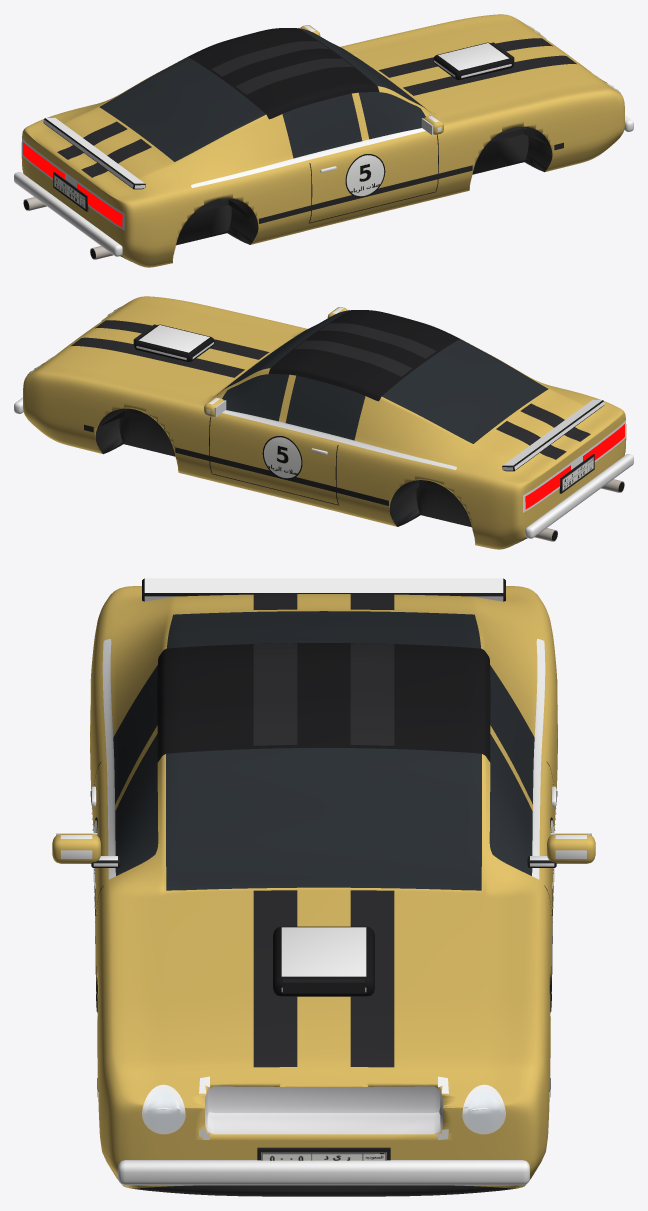
Rendered from SM_RiyadhMuscle_Body.fbx.
The picture shows the model from 3 angles, top to bottom: view 1: azimuth 30°, elevation 25°; view 2: azimuth 150°, elevation 25°; view 3: azimuth 270°, elevation 25°; orthographic projection. The views are drawn at different scales.
Visible parts, largest first — view 1: SM_RiyadhMuscle_Body; view 2: SM_RiyadhMuscle_Body; view 3: SM_RiyadhMuscle_Body.
Part boxes in pixels (<box>): SM_RiyadhMuscle_Body: <box>14,14,633,267</box>; SM_RiyadhMuscle_Body: <box>14,296,633,549</box>; SM_RiyadhMuscle_Body: <box>52,578,595,1196</box>.
Size of the model in its own units: 499 by 118 by 224.
